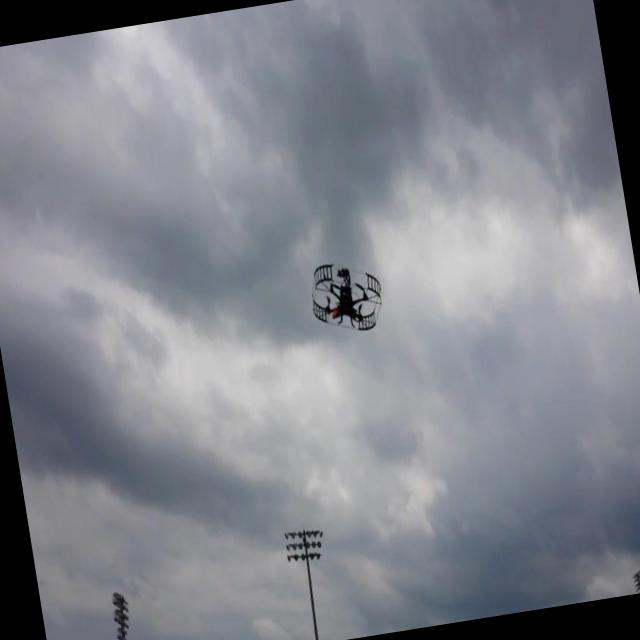drone: (305, 255, 388, 340)
